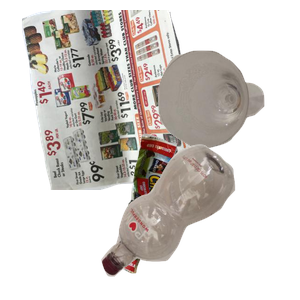glass: (156, 48, 300, 189)
paper: (19, 10, 223, 190)
plastic: (99, 142, 300, 300)
trash: (120, 131, 290, 300)
